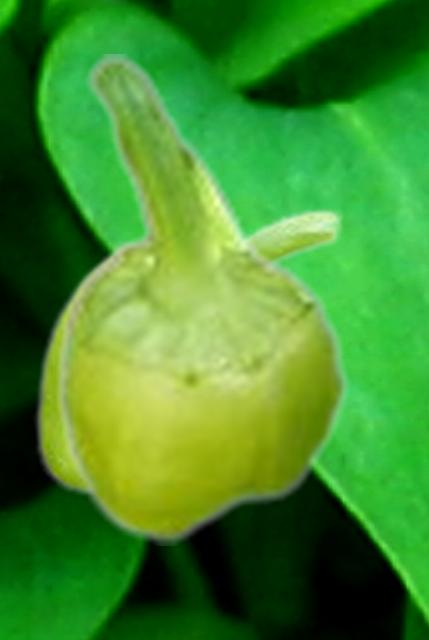bell_pepper: (53, 54, 350, 544), (33, 206, 344, 501)
